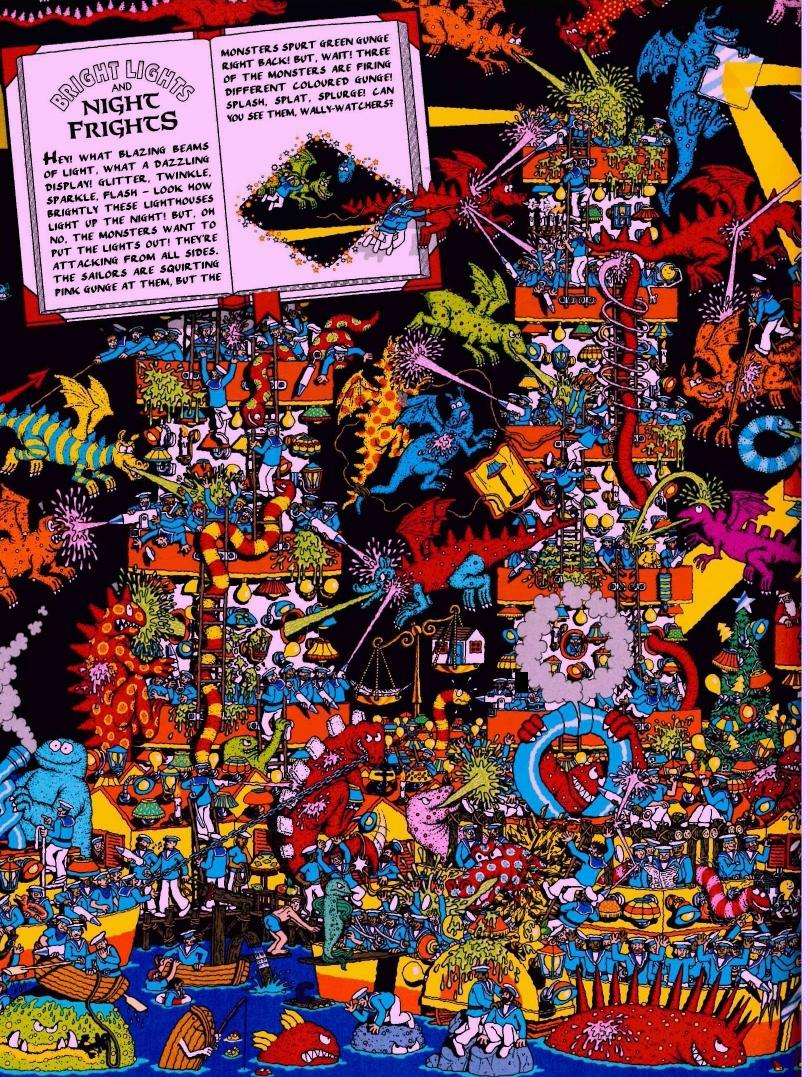waldos: (395, 387, 408, 408)
